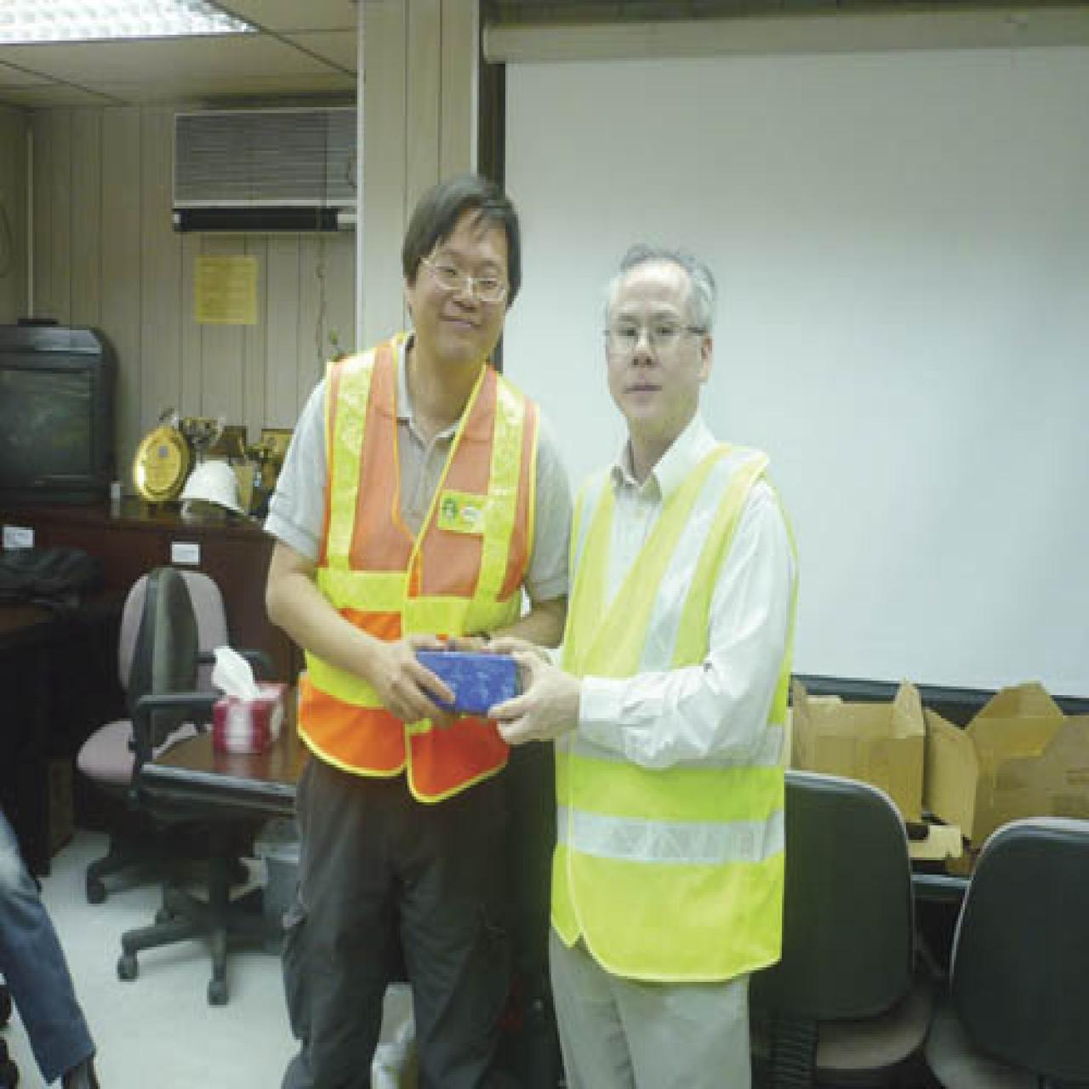Person: (255, 153, 579, 1089), (496, 221, 801, 1089)
Safety_Vest: (548, 437, 787, 990), (291, 342, 557, 826)
